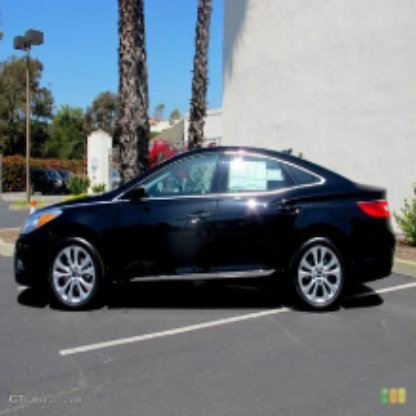Vehicle: (11, 143, 399, 320)
